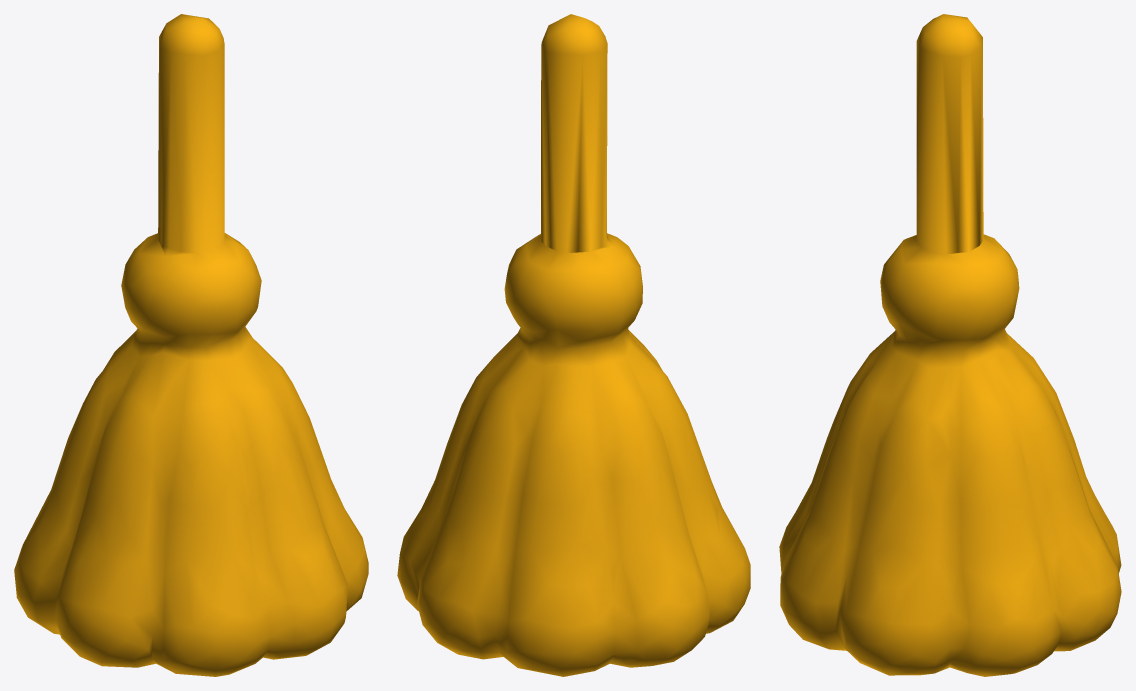
Rendered from Item_Tassel.fbx.
3 views of the same model, side by side, from view 1: azimuth 30°, elevation 25°; view 2: azimuth 150°, elevation 25°; view 3: azimuth 270°, elevation 25° (orthographic).
Parts seen in each view (by area): view 1: Item_Tassel; view 2: Item_Tassel; view 3: Item_Tassel.
Part boxes in pixels (<box>): Item_Tassel: <box>14,14,368,676</box>; Item_Tassel: <box>397,14,750,676</box>; Item_Tassel: <box>779,14,1121,676</box>.
Size of the model in its own units: 0.1537 by 0.3 by 0.1541.
Materials: 1 (1 with a texture image).
